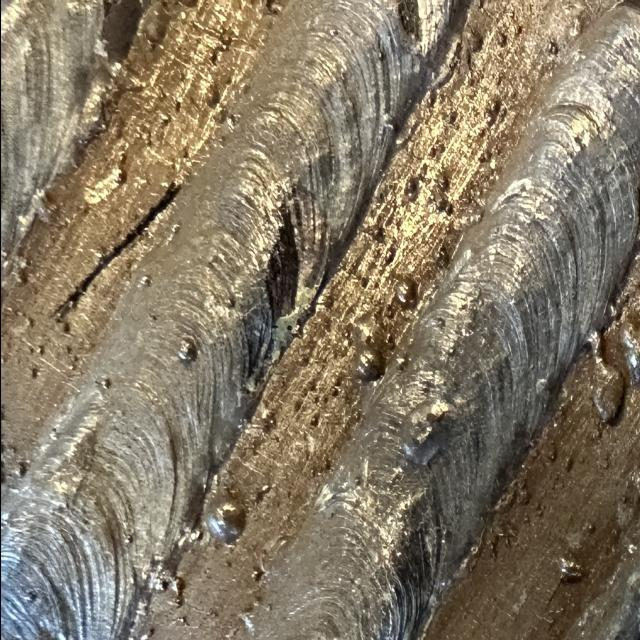Excess Reinforcement: (584, 329, 625, 425)
Spatters: (204, 488, 246, 547), (351, 345, 381, 384), (431, 172, 452, 217), (395, 277, 418, 310), (176, 338, 196, 367), (560, 559, 582, 583), (486, 98, 501, 127), (404, 177, 419, 202), (261, 412, 275, 433), (255, 485, 270, 503), (311, 413, 319, 428)
